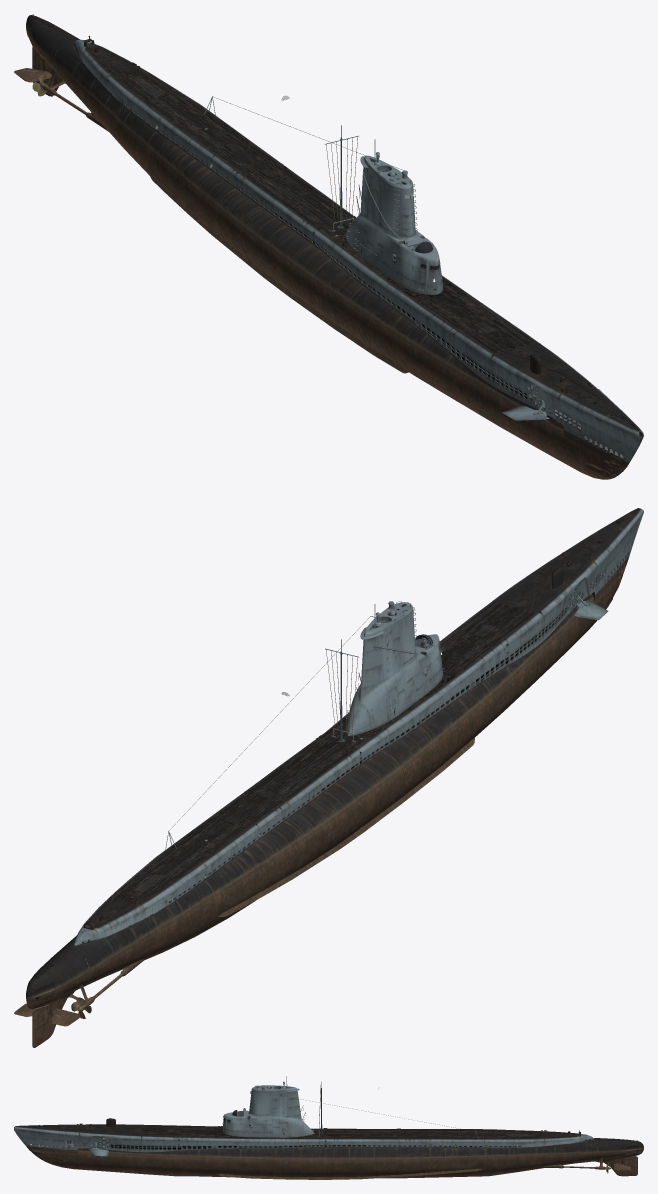
File: balao_world_of_warships-maximum-compressed.glb
The picture shows the model from 3 angles, top to bottom: view 1: azimuth 30°, elevation 25°; view 2: azimuth 150°, elevation 25°; view 3: azimuth 270°, elevation 25°; orthographic projection. The views are drawn at different scales.
Visible parts, largest first — view 1: Object_3, Object_6; view 2: Object_3, Object_6; view 3: Object_3, Object_6.
Part boxes in pixels (x1,y1,x2,y2): Object_3: (26, 14, 643, 479); Object_6: (14, 19, 403, 183); Object_3: (26, 508, 643, 1020); Object_6: (14, 604, 406, 1047); Object_3: (14, 1085, 643, 1179); Object_6: (267, 1076, 641, 1176).
Bounding box in the file's own units: 0.577 × 1.11 × 6.33.
8 materials, 5 textured.
